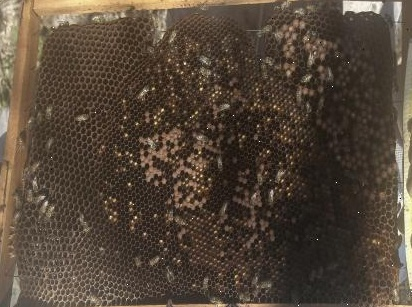cria: (264, 6, 396, 200), (138, 75, 274, 246)
